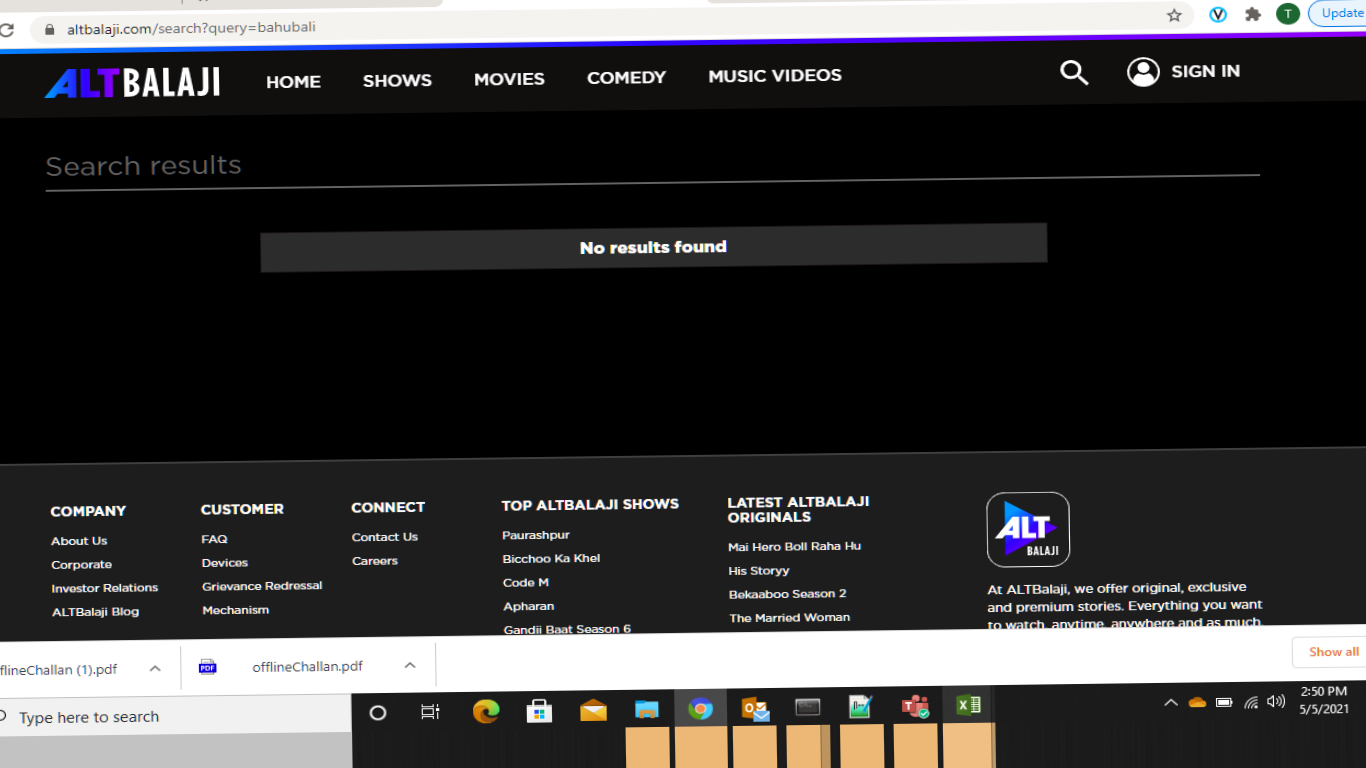noresultsfound: (255, 219, 1042, 272)
profileicon: (1123, 46, 1261, 92)
searchicon: (1048, 52, 1103, 105)
searchtextbox: (34, 130, 1303, 196)
